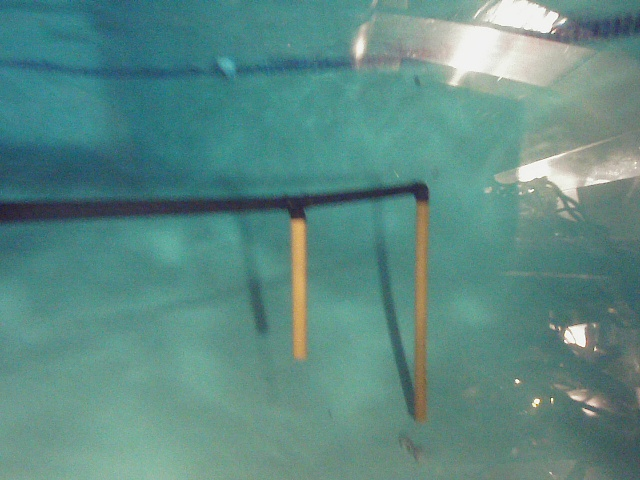Gate: (408, 199, 431, 423), (292, 213, 310, 363)
